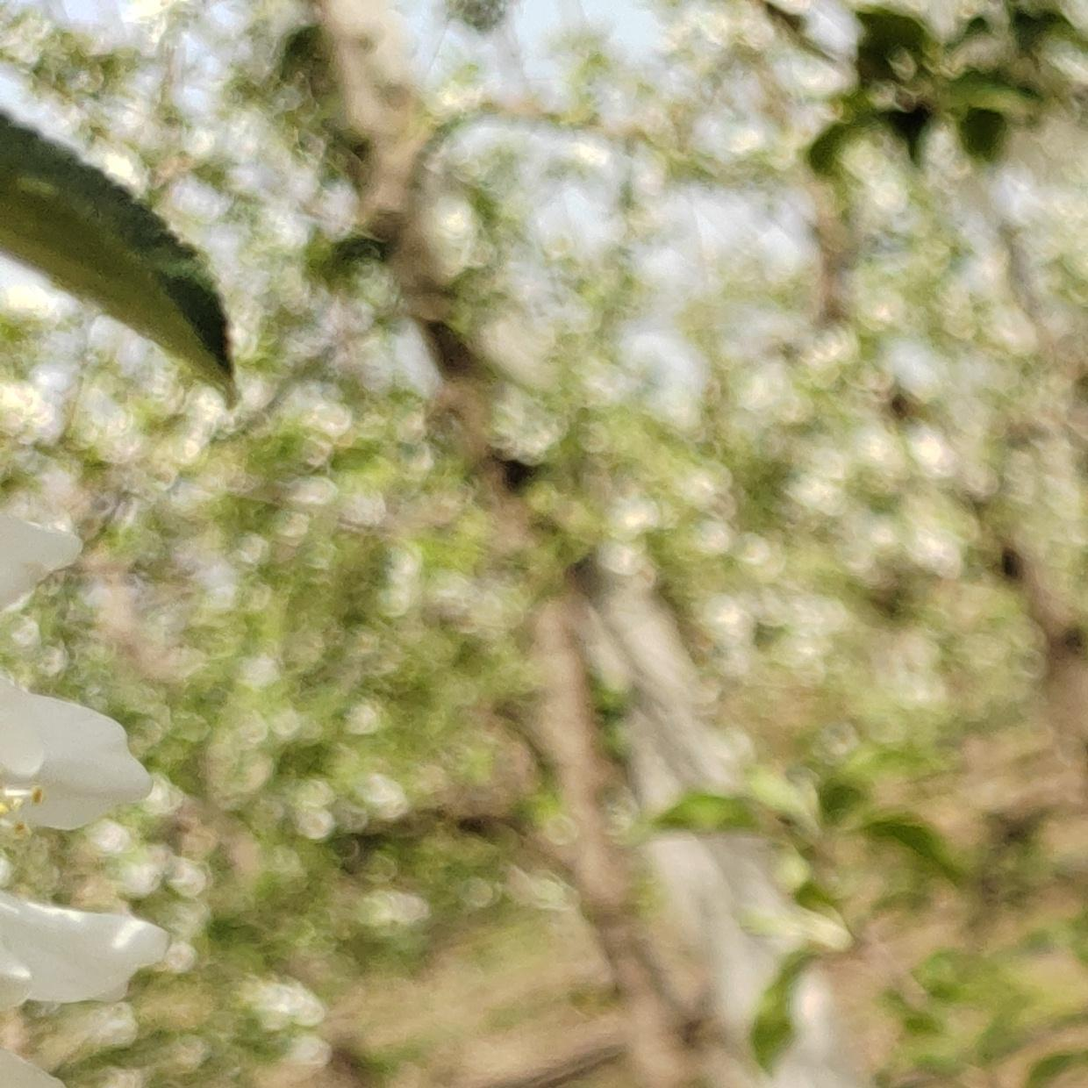apple_flower: (0, 667, 144, 833), (0, 877, 163, 1012), (0, 509, 71, 605), (0, 1043, 62, 1088)
